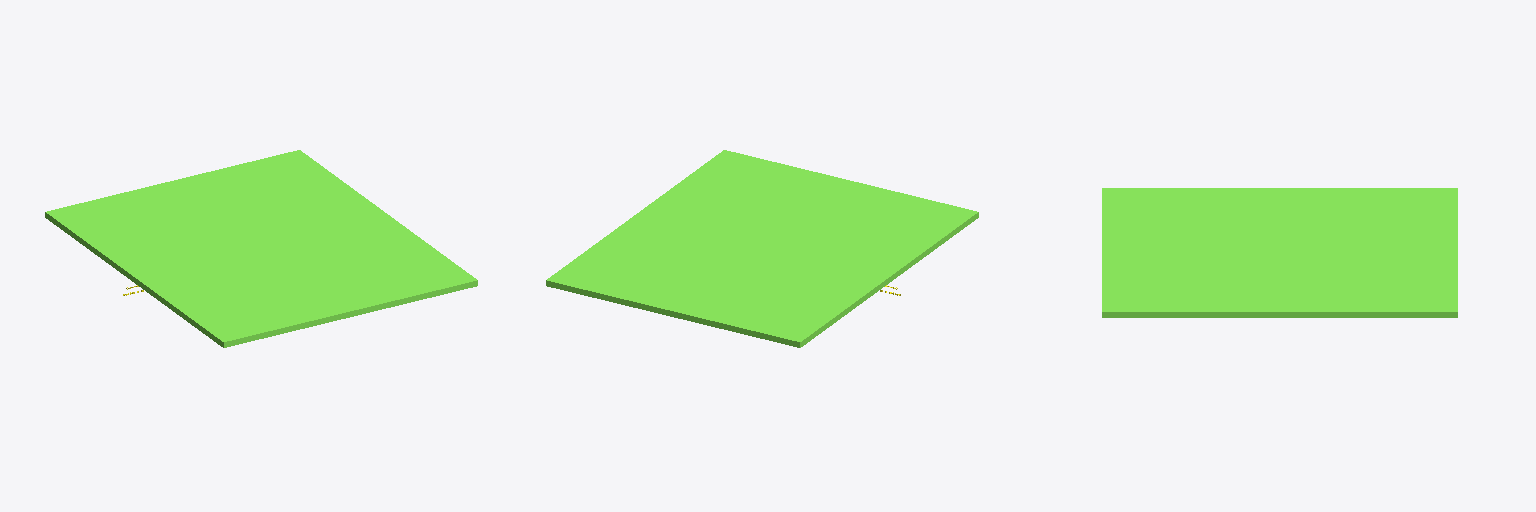
File: SuperSimpleTitle.obj
3 renders of one model, left to right at view 1: azimuth 30°, elevation 25°; view 2: azimuth 150°, elevation 25°; view 3: azimuth 270°, elevation 25°, orthographic.
Visible parts, largest first — view 1: SuperSimpleBG_Cube; view 2: SuperSimpleBG_Cube; view 3: SuperSimpleBG_Cube.
Boxes of the visible parts, box(x1,y1,x2,y2) form: SuperSimpleBG_Cube: box(45, 150, 477, 347); SuperSimpleBG_Cube: box(546, 150, 978, 347); SuperSimpleBG_Cube: box(1102, 188, 1457, 317).
Bounding box in the file's own units: 95.76 × 5.87 × 111.